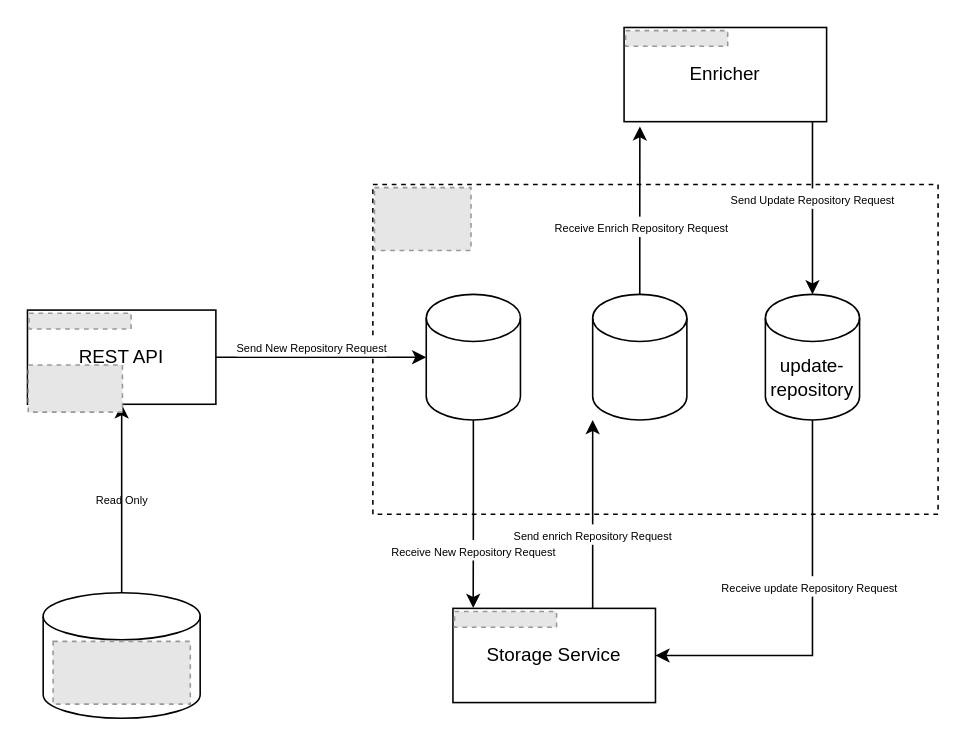
The diagram is 966 pixels wide and 746 high, and some of its shapes have lost their labels. Grey dashed boxes stand in for pictures. The centre of each missing label's shape, as x and y in pixels:
enrich-repository: pixel 639 356
new-repository: pixel 472 356
